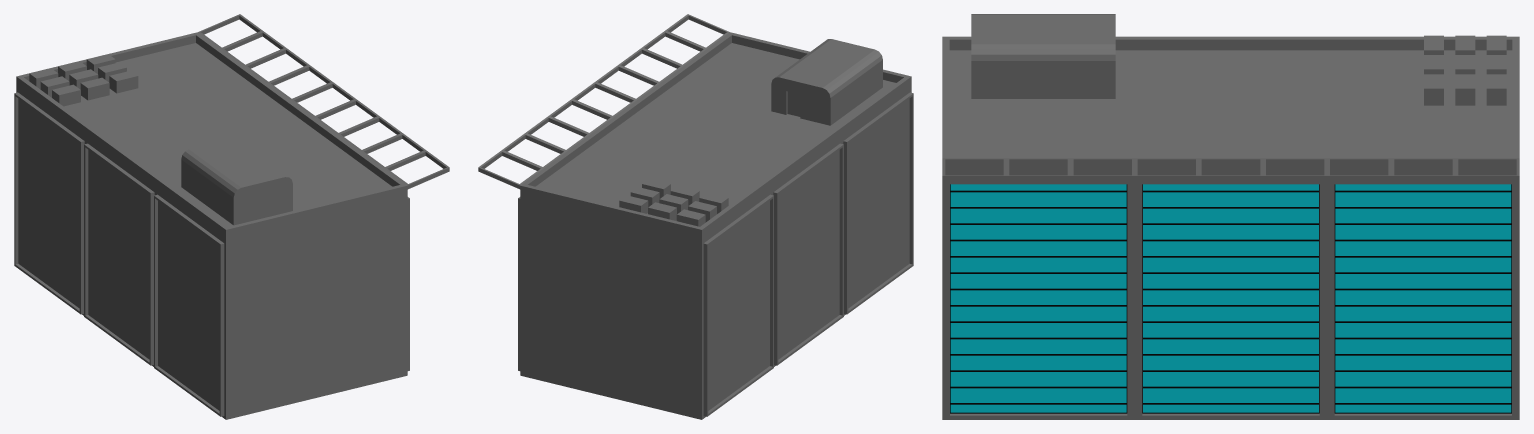
File: Office building.fbx
The picture shows the model from 3 angles, left to right: view 1: azimuth 30°, elevation 25°; view 2: azimuth 150°, elevation 25°; view 3: azimuth 270°, elevation 25°; orthographic projection. The views are drawn at different scales.
Parts seen in each view (by area): view 1: Cube.001; view 2: Cube.001; view 3: Cube.001.
Part boxes in pixels (bbox=[...]): Cube.001: bbox=[14, 14, 449, 419]; Cube.001: bbox=[478, 14, 913, 419]; Cube.001: bbox=[942, 14, 1519, 419].
Bounding box in the file's own units: 251 × 230 × 400.
